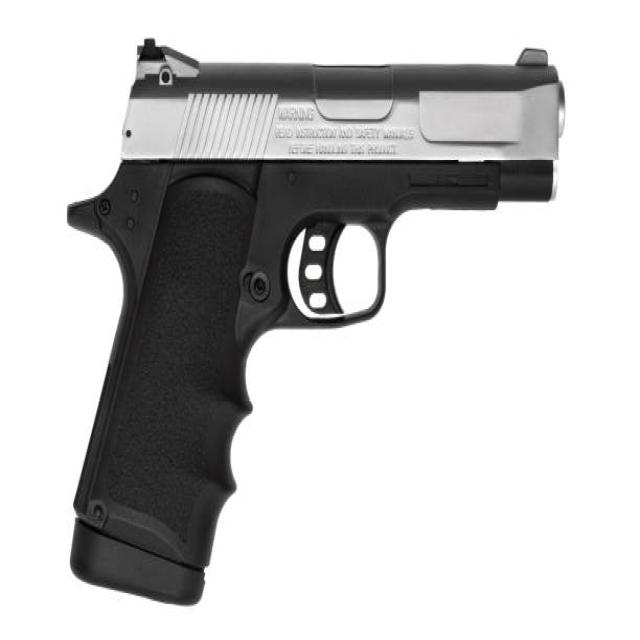pistol: (67, 33, 579, 612)
